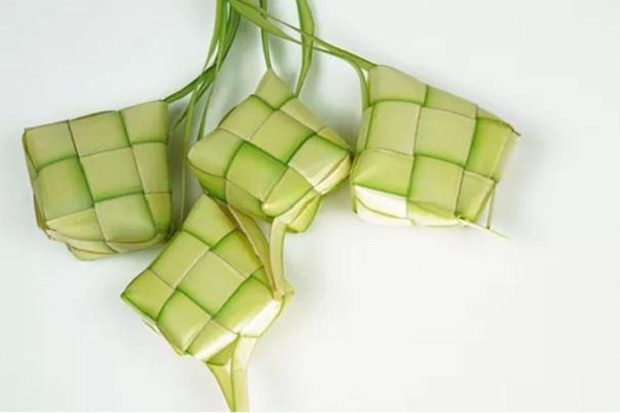ketupat: (121, 192, 285, 367), (189, 66, 356, 235), (351, 63, 518, 227), (22, 98, 180, 257)
